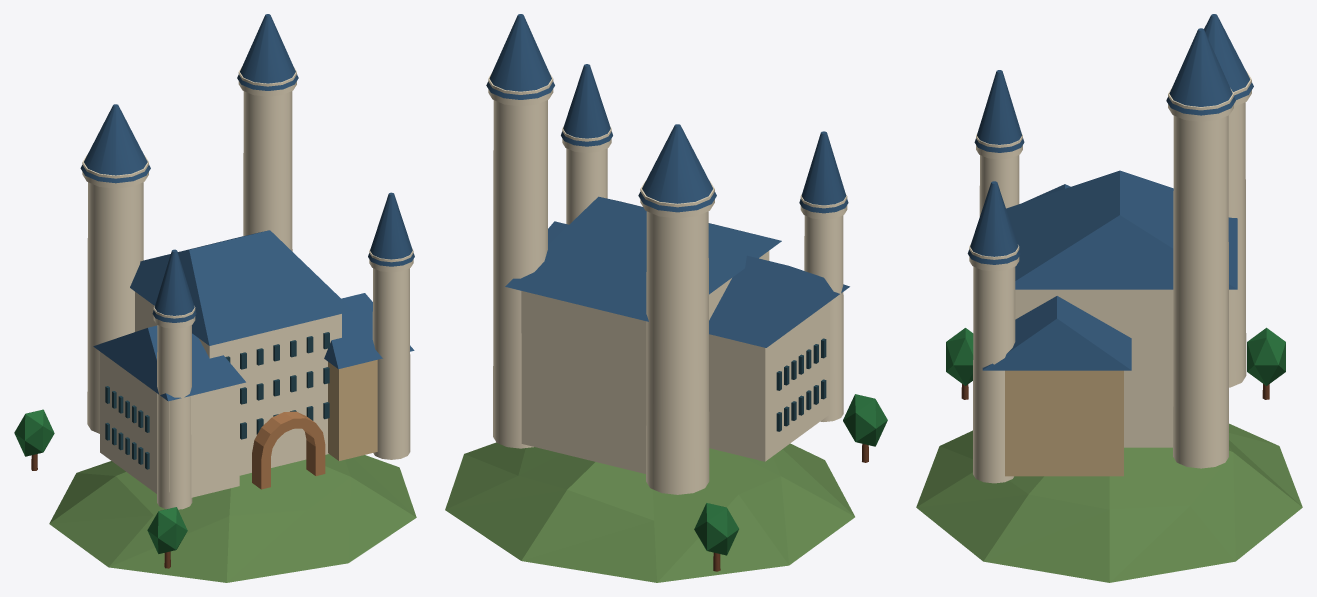
File: neuschwanstein.glb
3 views of the same model, side by side, from view 1: azimuth 30°, elevation 25°; view 2: azimuth 150°, elevation 25°; view 3: azimuth 270°, elevation 25° (orthographic). The views are drawn at different scales.
Parts seen in each view (by area): view 1: towers_E2D9C3, base_8B937B, roof_526B75, body_E2D9C3, body_D1C4A8, detail, body_BEAD8C, landscape_657F58; view 2: towers_E2D9C3, base_8B937B, roof_526B75, body_E2D9C3, landscape_657F58, detail; view 3: base_8B937B, towers_E2D9C3, roof_526B75, body_D1C4A8, body_E2D9C3, landscape_657F58.
Boxes of the visible parts, x1,y1,x2,y2 form: towers_E2D9C3: (82, 66, 413, 509); base_8B937B: (49, 454, 416, 582); roof_526B75: (80, 14, 414, 401); body_E2D9C3: (100, 292, 341, 497); body_D1C4A8: (328, 360, 377, 460); detail: (105, 332, 329, 469); body_BEAD8C: (252, 411, 325, 489); landscape_657F58: (14, 409, 187, 553); towers_E2D9C3: (488, 73, 847, 494); base_8B937B: (445, 442, 854, 582); roof_526B75: (486, 14, 849, 347); body_E2D9C3: (521, 251, 829, 473); landscape_657F58: (694, 394, 887, 555); detail: (776, 338, 826, 431); base_8B937B: (916, 423, 1302, 582); towers_E2D9C3: (969, 71, 1251, 483); roof_526B75: (967, 14, 1253, 370); body_D1C4A8: (1005, 370, 1123, 476); body_E2D9C3: (1015, 289, 1173, 447); landscape_657F58: (946, 327, 1285, 385).
Bounding box in the file's own units: 1 × 1.32 × 0.9231.
